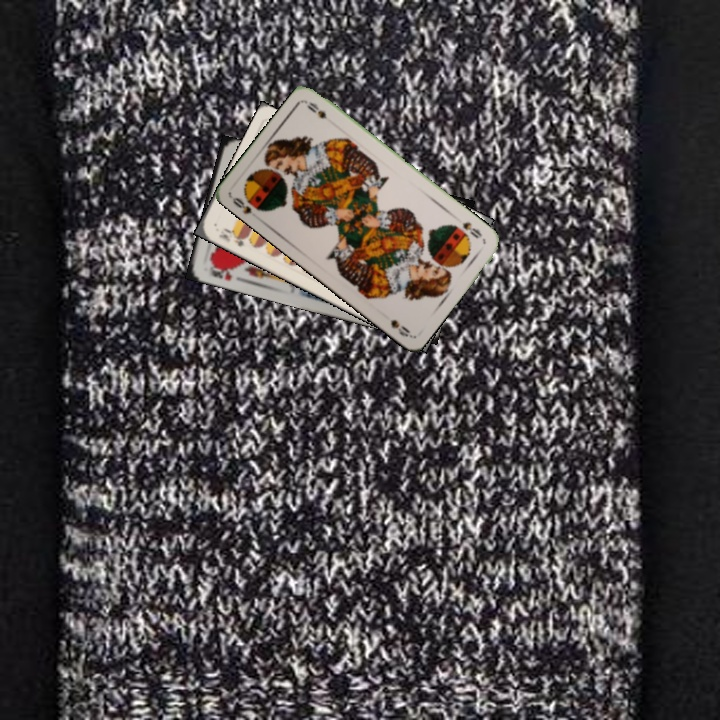E10: (215, 224, 252, 249)
HK: (206, 260, 236, 283)
SO: (228, 193, 255, 217), (458, 218, 485, 241)
